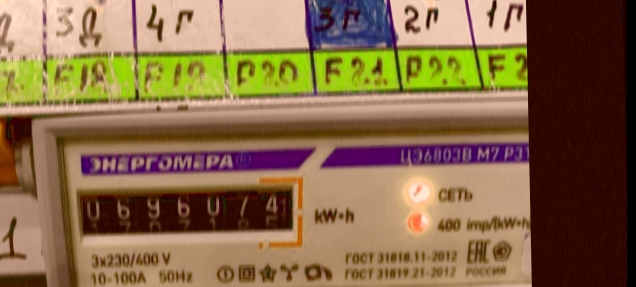0: (83, 195, 102, 219), (204, 190, 221, 216)
4: (262, 189, 279, 211)
5: (264, 214, 280, 229)
6: (175, 191, 193, 217), (115, 194, 132, 218)
7: (234, 191, 252, 216)
9: (144, 193, 161, 219)
screen: (66, 172, 308, 245)
